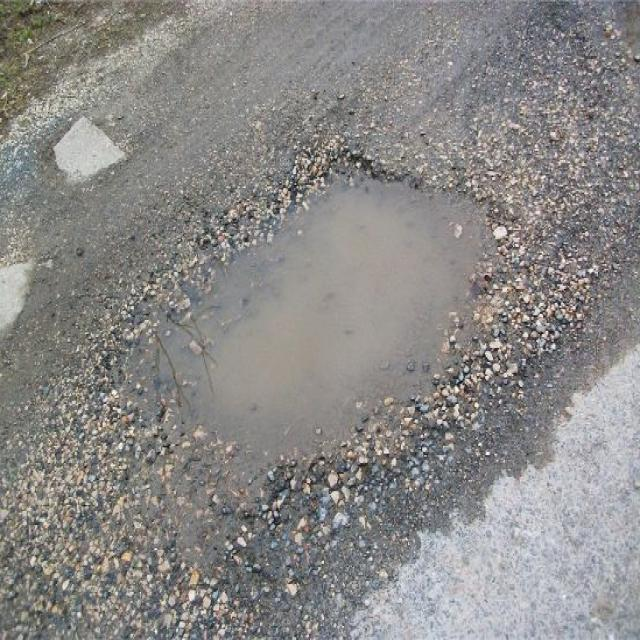pothole: (106, 137, 540, 560)
